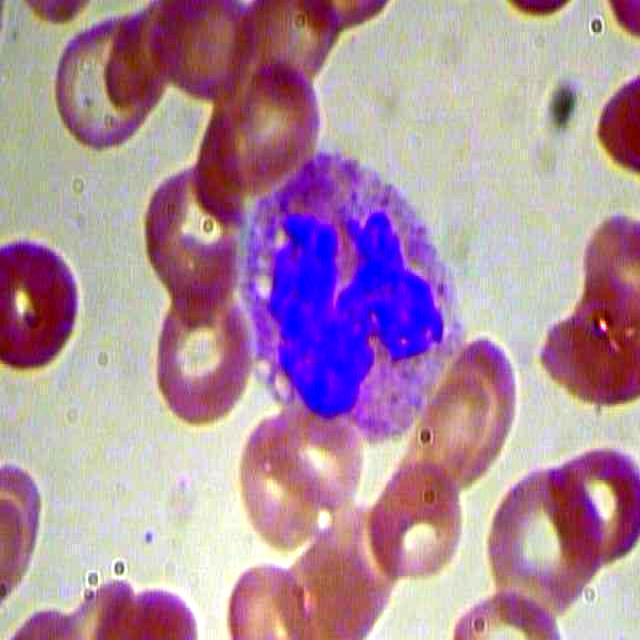RBC: (480, 457, 604, 624), (147, 276, 251, 435), (1, 222, 89, 378)
WBC: (232, 136, 469, 448)
